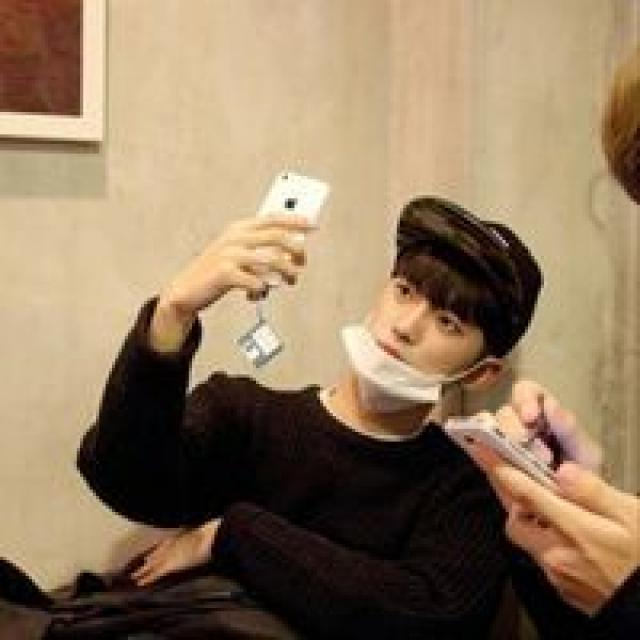nomask: (355, 246, 490, 388)
